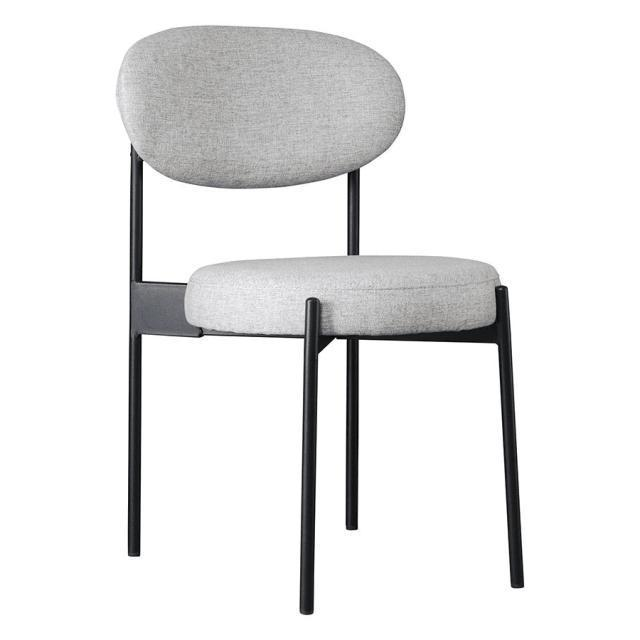chair: (112, 20, 528, 618), (122, 21, 516, 336)
